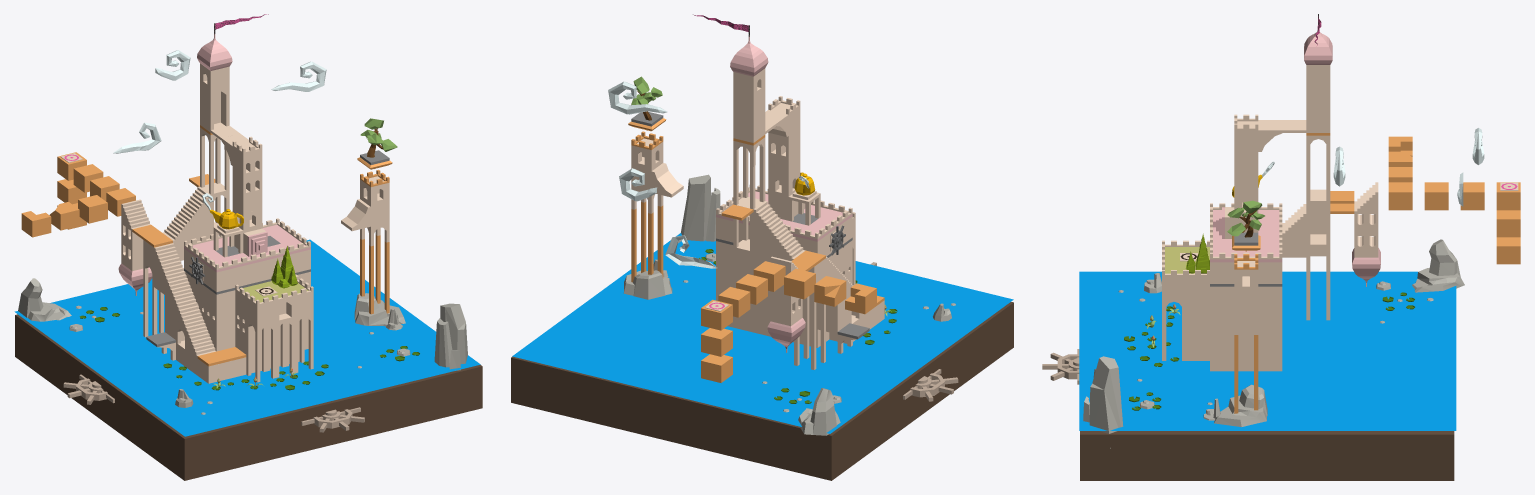
Rendered from Abstract.fbx.
The picture shows the model from 3 angles, left to right: view 1: azimuth 30°, elevation 25°; view 2: azimuth 150°, elevation 25°; view 3: azimuth 270°, elevation 25°; orthographic projection. The views are drawn at different scales.
Visible parts, largest first — view 1: LowPolyWaterv2, Cube, Abstract, Rock_Large_17, Rock_Large_16, Rock_Large_15, Abstract_Modular_Window_Dual_Archway_Dual_2.0_Beige_01 (1), Prop_Vault_Handle_Lock_Metal_01 (1), Prop_Vault_Handle_Lock_Metal_01 (2), Cloud_Wisp_02, Abstract_Modular_Stairs_1.0_Beige_01 (3), Abstract_Modular_Stairs_1.0_Beige_01 (1) (+14 smaller); view 2: LowPolyWaterv2, Cube, Abstract, Rock_Large_17, Rock_Large_16, Rock_Large_15, Abstract_Modular_Window_Dual_Archway_Dual_2.0_Beige_01 (1), Prop_Vault_Handle_Lock_Metal_01 (2), Cloud_Wisp_02, Abstract_Modular_Stairs_1.0_Beige_01 (5), Abstract_Modular_Block_1.0_Beige_01 (25), Abstract_Modular_Stairs_1.0_Beige_01 (4) (+12 smaller); view 3: LowPolyWaterv2, Cube, Abstract, Rock_Large_17, Rock_Large_16, Rock_Large_15, Abstract_Modular_Window_Dual_Archway_Dual_2.0_Beige_01 (1), Vegetation_Tree_Asian_04, Prop_Vault_Handle_Lock_Metal_01 (1), Abstract_Modular_Roof_1.0_Beige_01 (1), Abstract_Modular_Stairs_1.0_Beige_01 (3), Abstract_Modular_Stairs_1.0_Beige_01 (6) (+17 smaller).
Boxes of the visible parts, x1,y1,x2,y2 form: LowPolyWaterv2: (14, 239, 480, 436); Cube: (15, 314, 482, 480); Abstract: (21, 14, 389, 377); Rock_Large_17: (434, 303, 467, 370); Rock_Large_16: (18, 278, 71, 321); Rock_Large_15: (354, 293, 405, 326); Abstract_Modular_Window_Dual_Archway_Dual_2.0_Beige_01 (1): (121, 224, 143, 270); Prop_Vault_Handle_Lock_Metal_01 (1): (301, 407, 364, 432); Prop_Vault_Handle_Lock_Metal_01 (2): (63, 374, 114, 404); Cloud_Wisp_02: (271, 61, 326, 91); Abstract_Modular_Stairs_1.0_Beige_01 (3): (154, 243, 183, 275); Abstract_Modular_Stairs_1.0_Beige_01 (1): (176, 298, 205, 330); LowPolyWaterv2: (512, 233, 1013, 433); Cube: (511, 302, 1013, 480); Abstract: (631, 14, 876, 382); Rock_Large_17: (681, 174, 720, 241); Rock_Large_16: (798, 388, 840, 435); Rock_Large_15: (623, 270, 672, 299); Abstract_Modular_Window_Dual_Archway_Dual_2.0_Beige_01 (1): (770, 285, 802, 326); Prop_Vault_Handle_Lock_Metal_01 (2): (903, 369, 958, 401); Cloud_Wisp_02: (608, 81, 667, 114); Abstract_Modular_Stairs_1.0_Beige_01 (5): (753, 201, 785, 235); Abstract_Modular_Block_1.0_Beige_01 (25): (768, 149, 800, 178); Abstract_Modular_Stairs_1.0_Beige_01 (4): (773, 227, 805, 260); LowPolyWaterv2: (1079, 271, 1456, 430); Cube: (1080, 431, 1454, 480); Abstract: (1162, 14, 1520, 291); Rock_Large_17: (1083, 356, 1123, 448); Rock_Large_16: (1412, 239, 1464, 292); Rock_Large_15: (1214, 384, 1267, 427); Abstract_Modular_Window_Dual_Archway_Dual_2.0_Beige_01 (1): (1354, 214, 1378, 257); Vegetation_Tree_Asian_04: (1227, 200, 1264, 237); Prop_Vault_Handle_Lock_Metal_01 (1): (1042, 349, 1079, 384); Abstract_Modular_Roof_1.0_Beige_01 (1): (1352, 248, 1380, 286); Abstract_Modular_Stairs_1.0_Beige_01 (3): (1282, 204, 1306, 235); Abstract_Modular_Stairs_1.0_Beige_01 (6): (1354, 182, 1378, 213).
Bounding box in the file's own units: 52.16 × 52.4 × 59.72.
